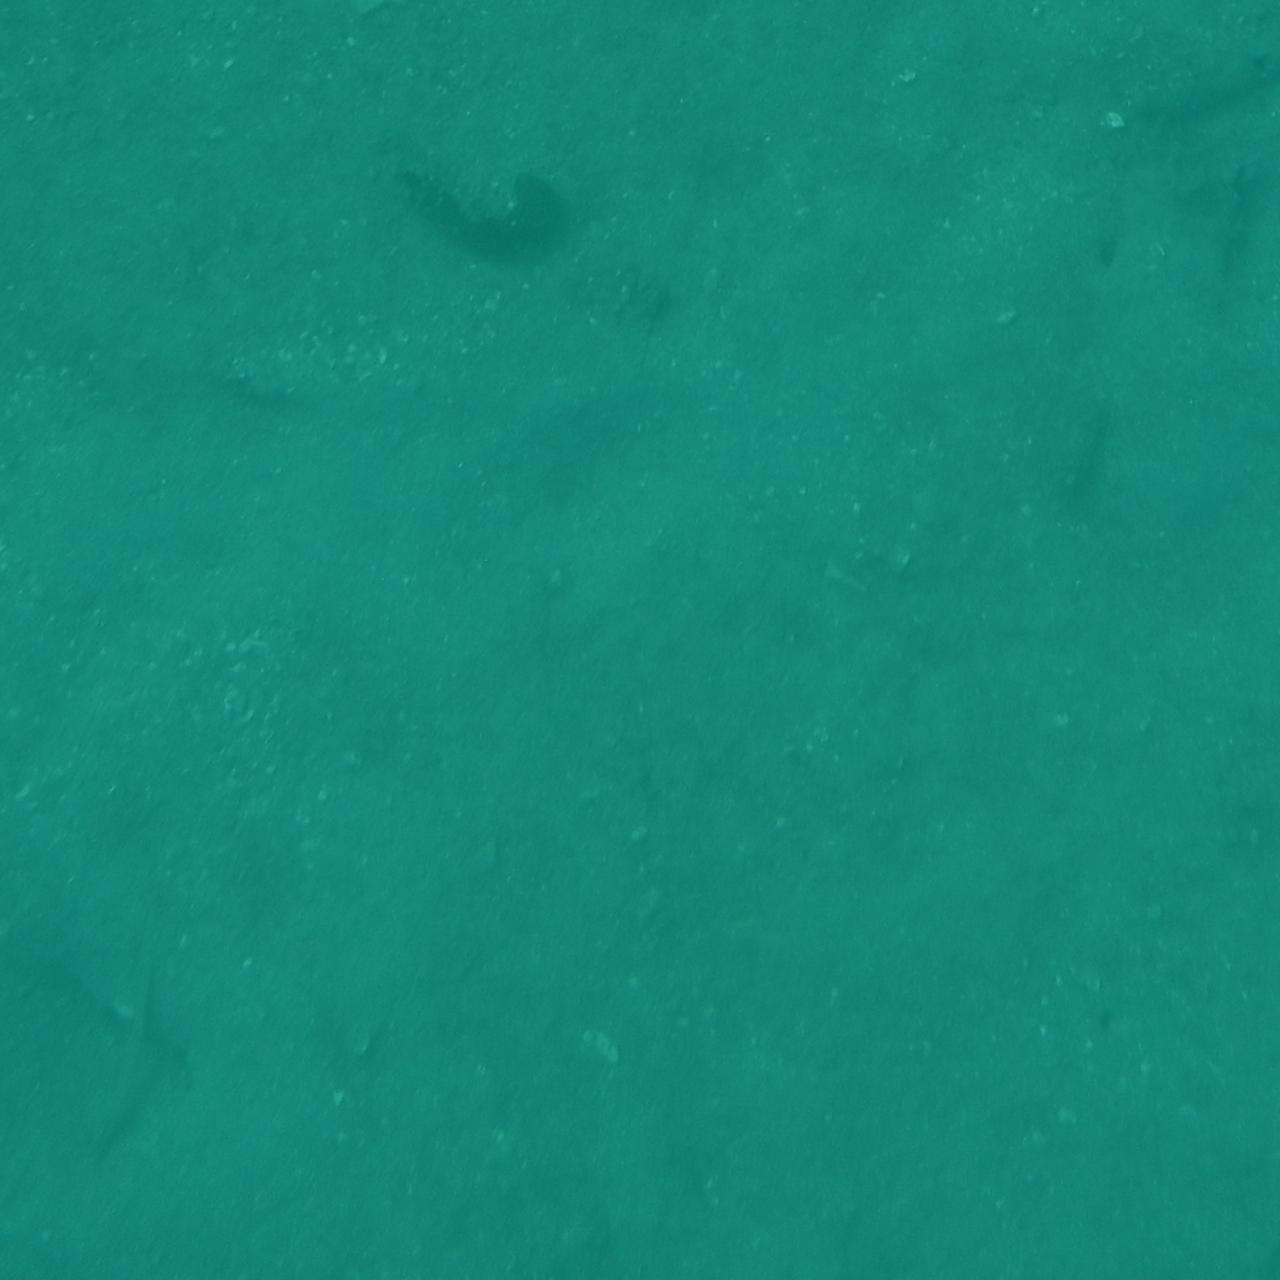Holothuria tubulosa: (339, 156, 598, 274), (1143, 736, 1280, 903), (1210, 933, 1280, 1206), (1132, 0, 1280, 123), (0, 1122, 82, 1280), (0, 1129, 86, 1280), (0, 225, 47, 501), (0, 39, 45, 302)
